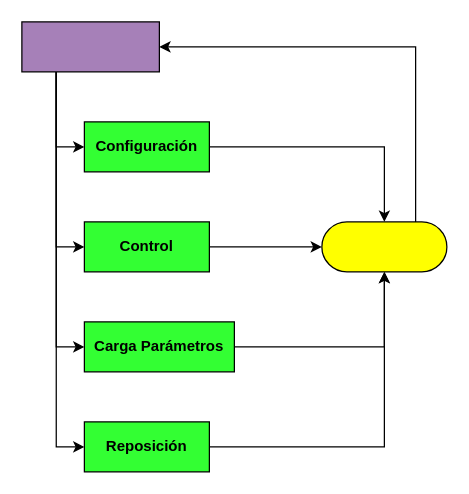
The diagram is 469 pixels wide and 494 high, and some of its shapes have lost their labels. The shapes that lost their labels are listed below. From the top down, each one's centre as x and y in pixels, then its label:
point (90, 46): Pantalla Principal
point (384, 246): Volver
